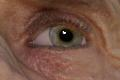eye: (50, 27, 81, 46)
